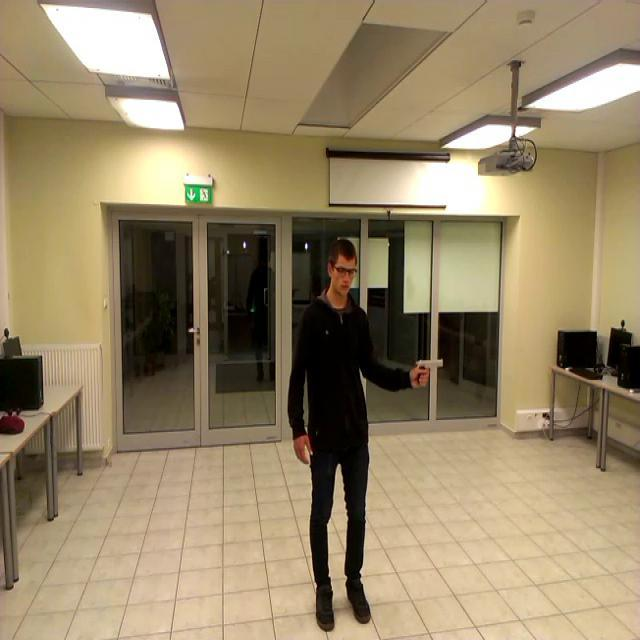Gun: (416, 356, 444, 386)
